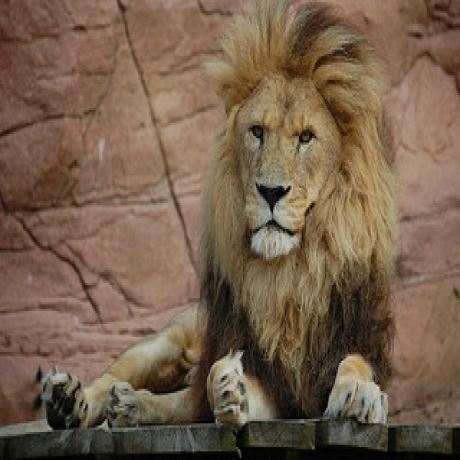Lion: (45, 1, 390, 431)
